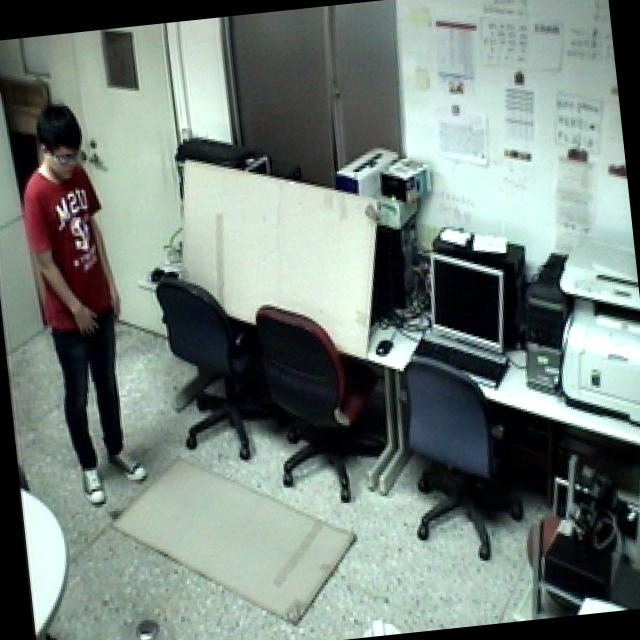stand: (6, 84, 152, 513)
